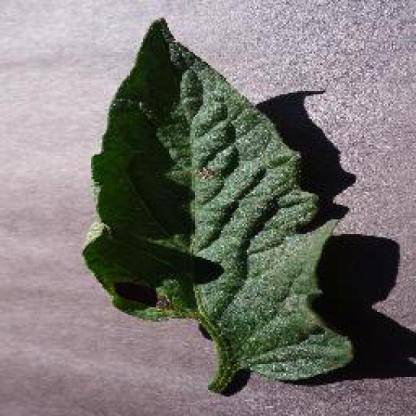Tomato_Blight: (90, 22, 352, 373)
